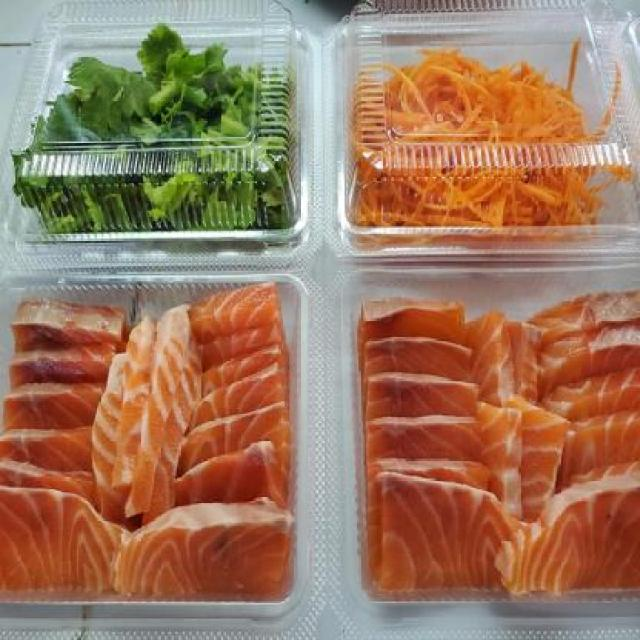salmon: (4, 284, 298, 604), (351, 284, 640, 592)
